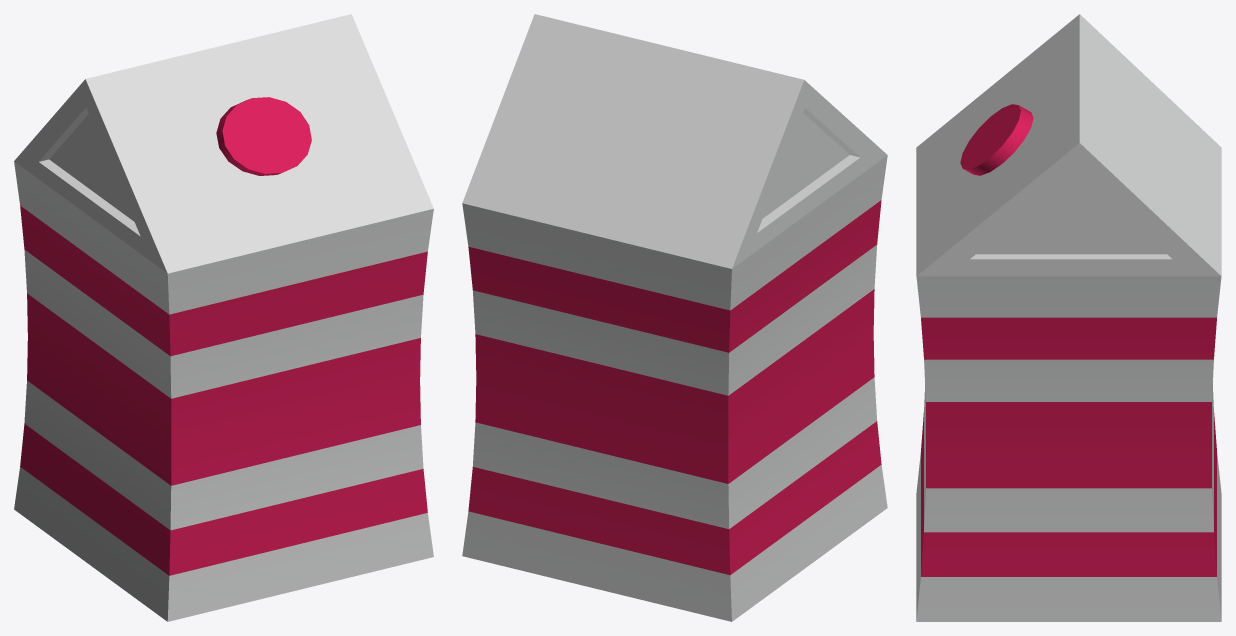
The model's file is 3D_Juice_2.FBX.
3 views of the same model, side by side, from view 1: azimuth 30°, elevation 25°; view 2: azimuth 150°, elevation 25°; view 3: azimuth 270°, elevation 25° (orthographic). The views are drawn at different scales.
Visible parts, largest first — view 1: 3D_Juice_2; view 2: 3D_Juice_2; view 3: 3D_Juice_2.
Boxes of the visible parts, x1,y1,x2,y2 form: 3D_Juice_2: (14, 14, 433, 621); 3D_Juice_2: (462, 14, 887, 621); 3D_Juice_2: (916, 14, 1221, 621).
Size of the model in its own units: 54.54 by 94.52 by 54.54.
